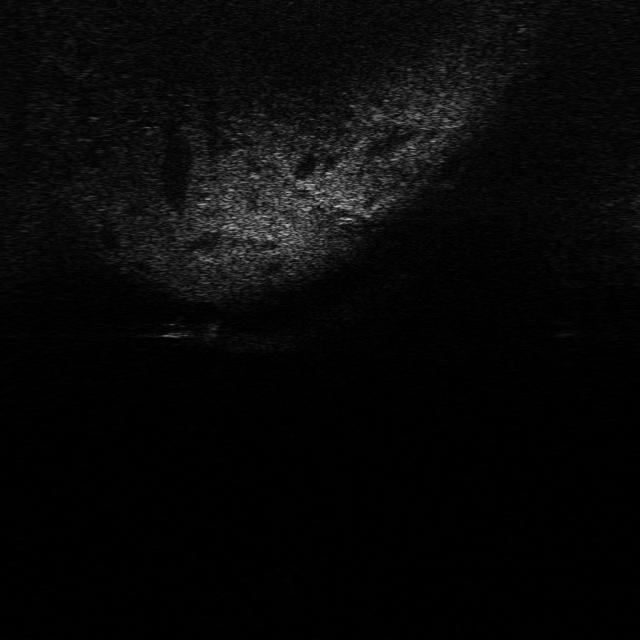cube: (157, 316, 197, 339)
cylinder: (200, 317, 220, 347)
